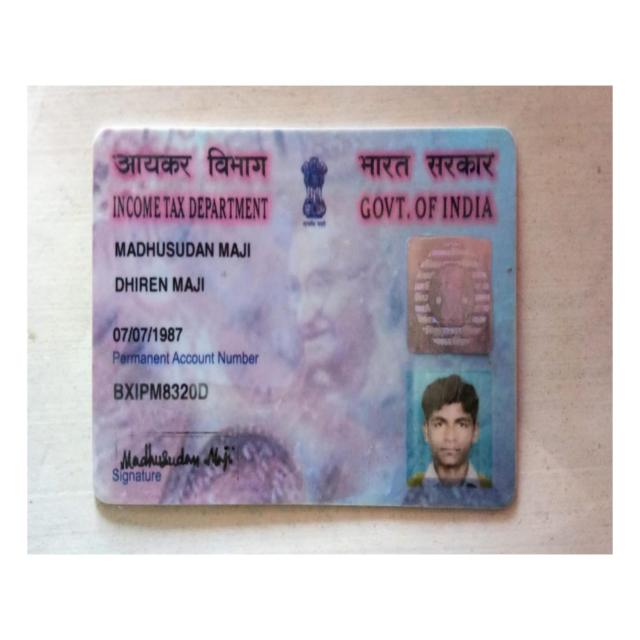pan_card: (91, 122, 516, 511)
